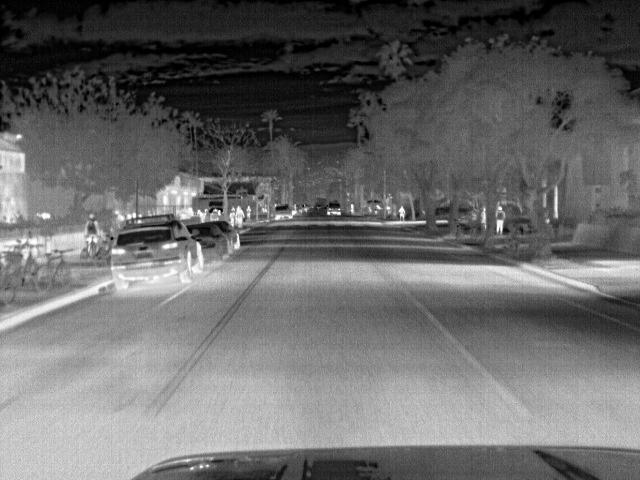car: (109, 220, 205, 290), (186, 223, 230, 264), (212, 222, 242, 250), (273, 204, 295, 220), (325, 200, 344, 218)
person: (84, 213, 101, 260), (493, 204, 507, 238), (242, 204, 255, 232), (234, 205, 247, 225), (398, 206, 407, 222)
